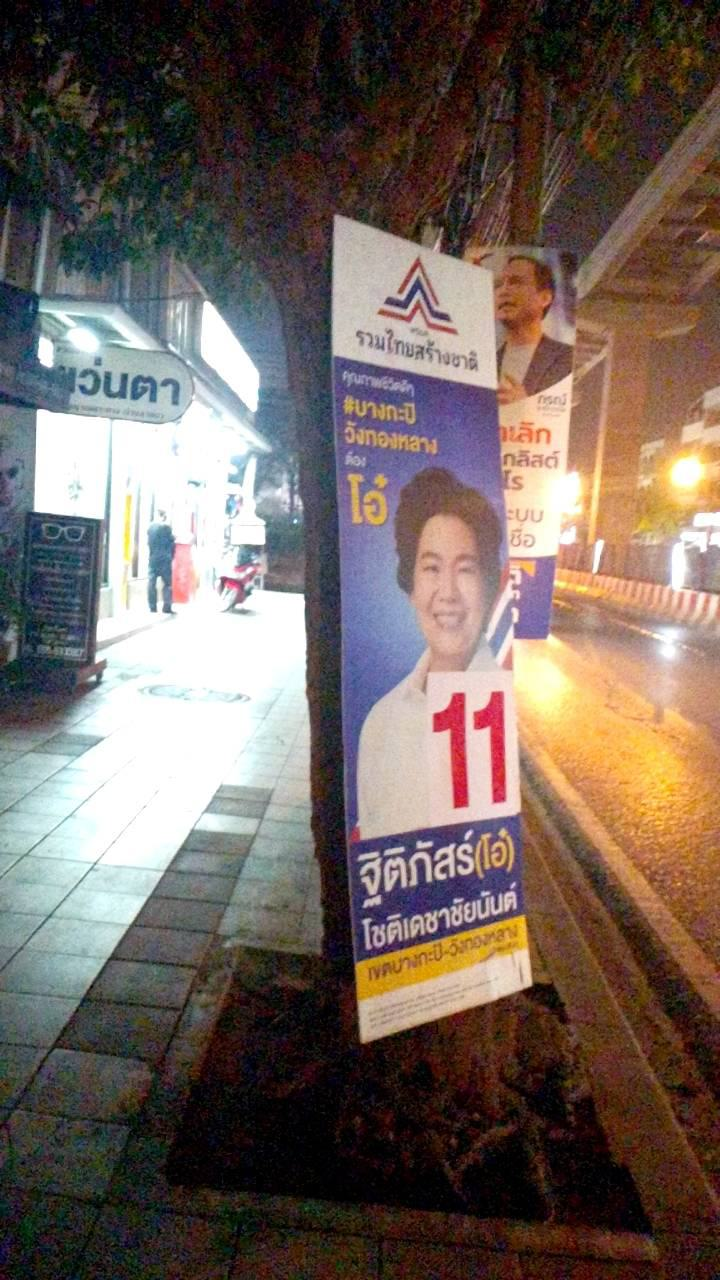Banner: (326, 202, 534, 1066)
